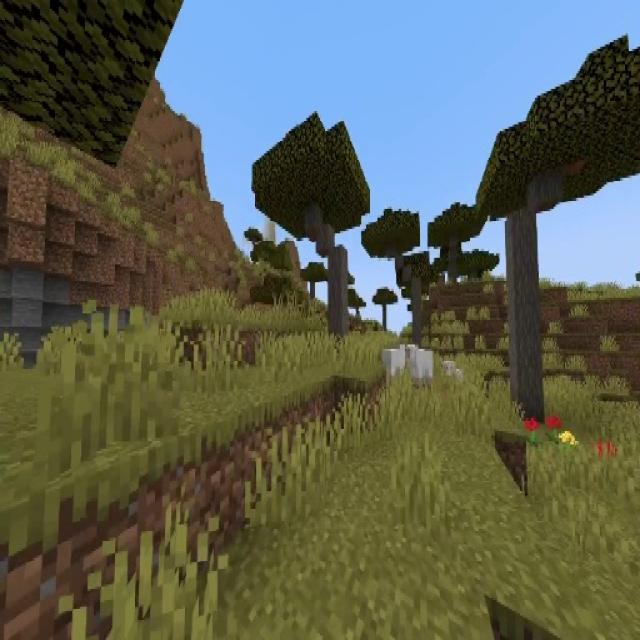acacia: (482, 36, 640, 427), (252, 112, 371, 346), (363, 208, 431, 352), (428, 202, 486, 284)
acacia_log: (506, 185, 549, 423), (308, 210, 351, 341)
